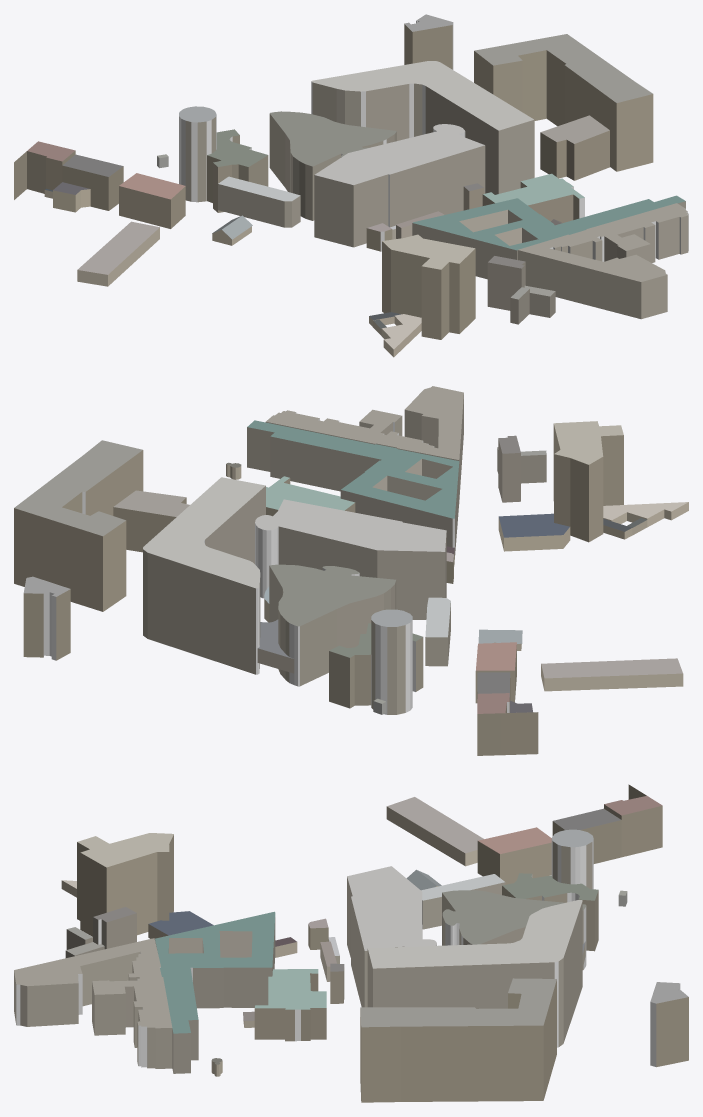
3 views of the same model, one above another, from view 1: azimuth 30°, elevation 25°; view 2: azimuth 150°, elevation 25°; view 3: azimuth 270°, elevation 25° (orthographic). The views are drawn at different scales.
Visible parts, largest first — view 1: tuile; view 2: tuile; view 3: tuile.
Part boxes in pixels (x1,y1,x2,y2): tuile: (14,14,688,357); tuile: (14,386,688,755); tuile: (14,784,688,1102).
Size of the model in its own units: 280 by 41.42 by 271.
